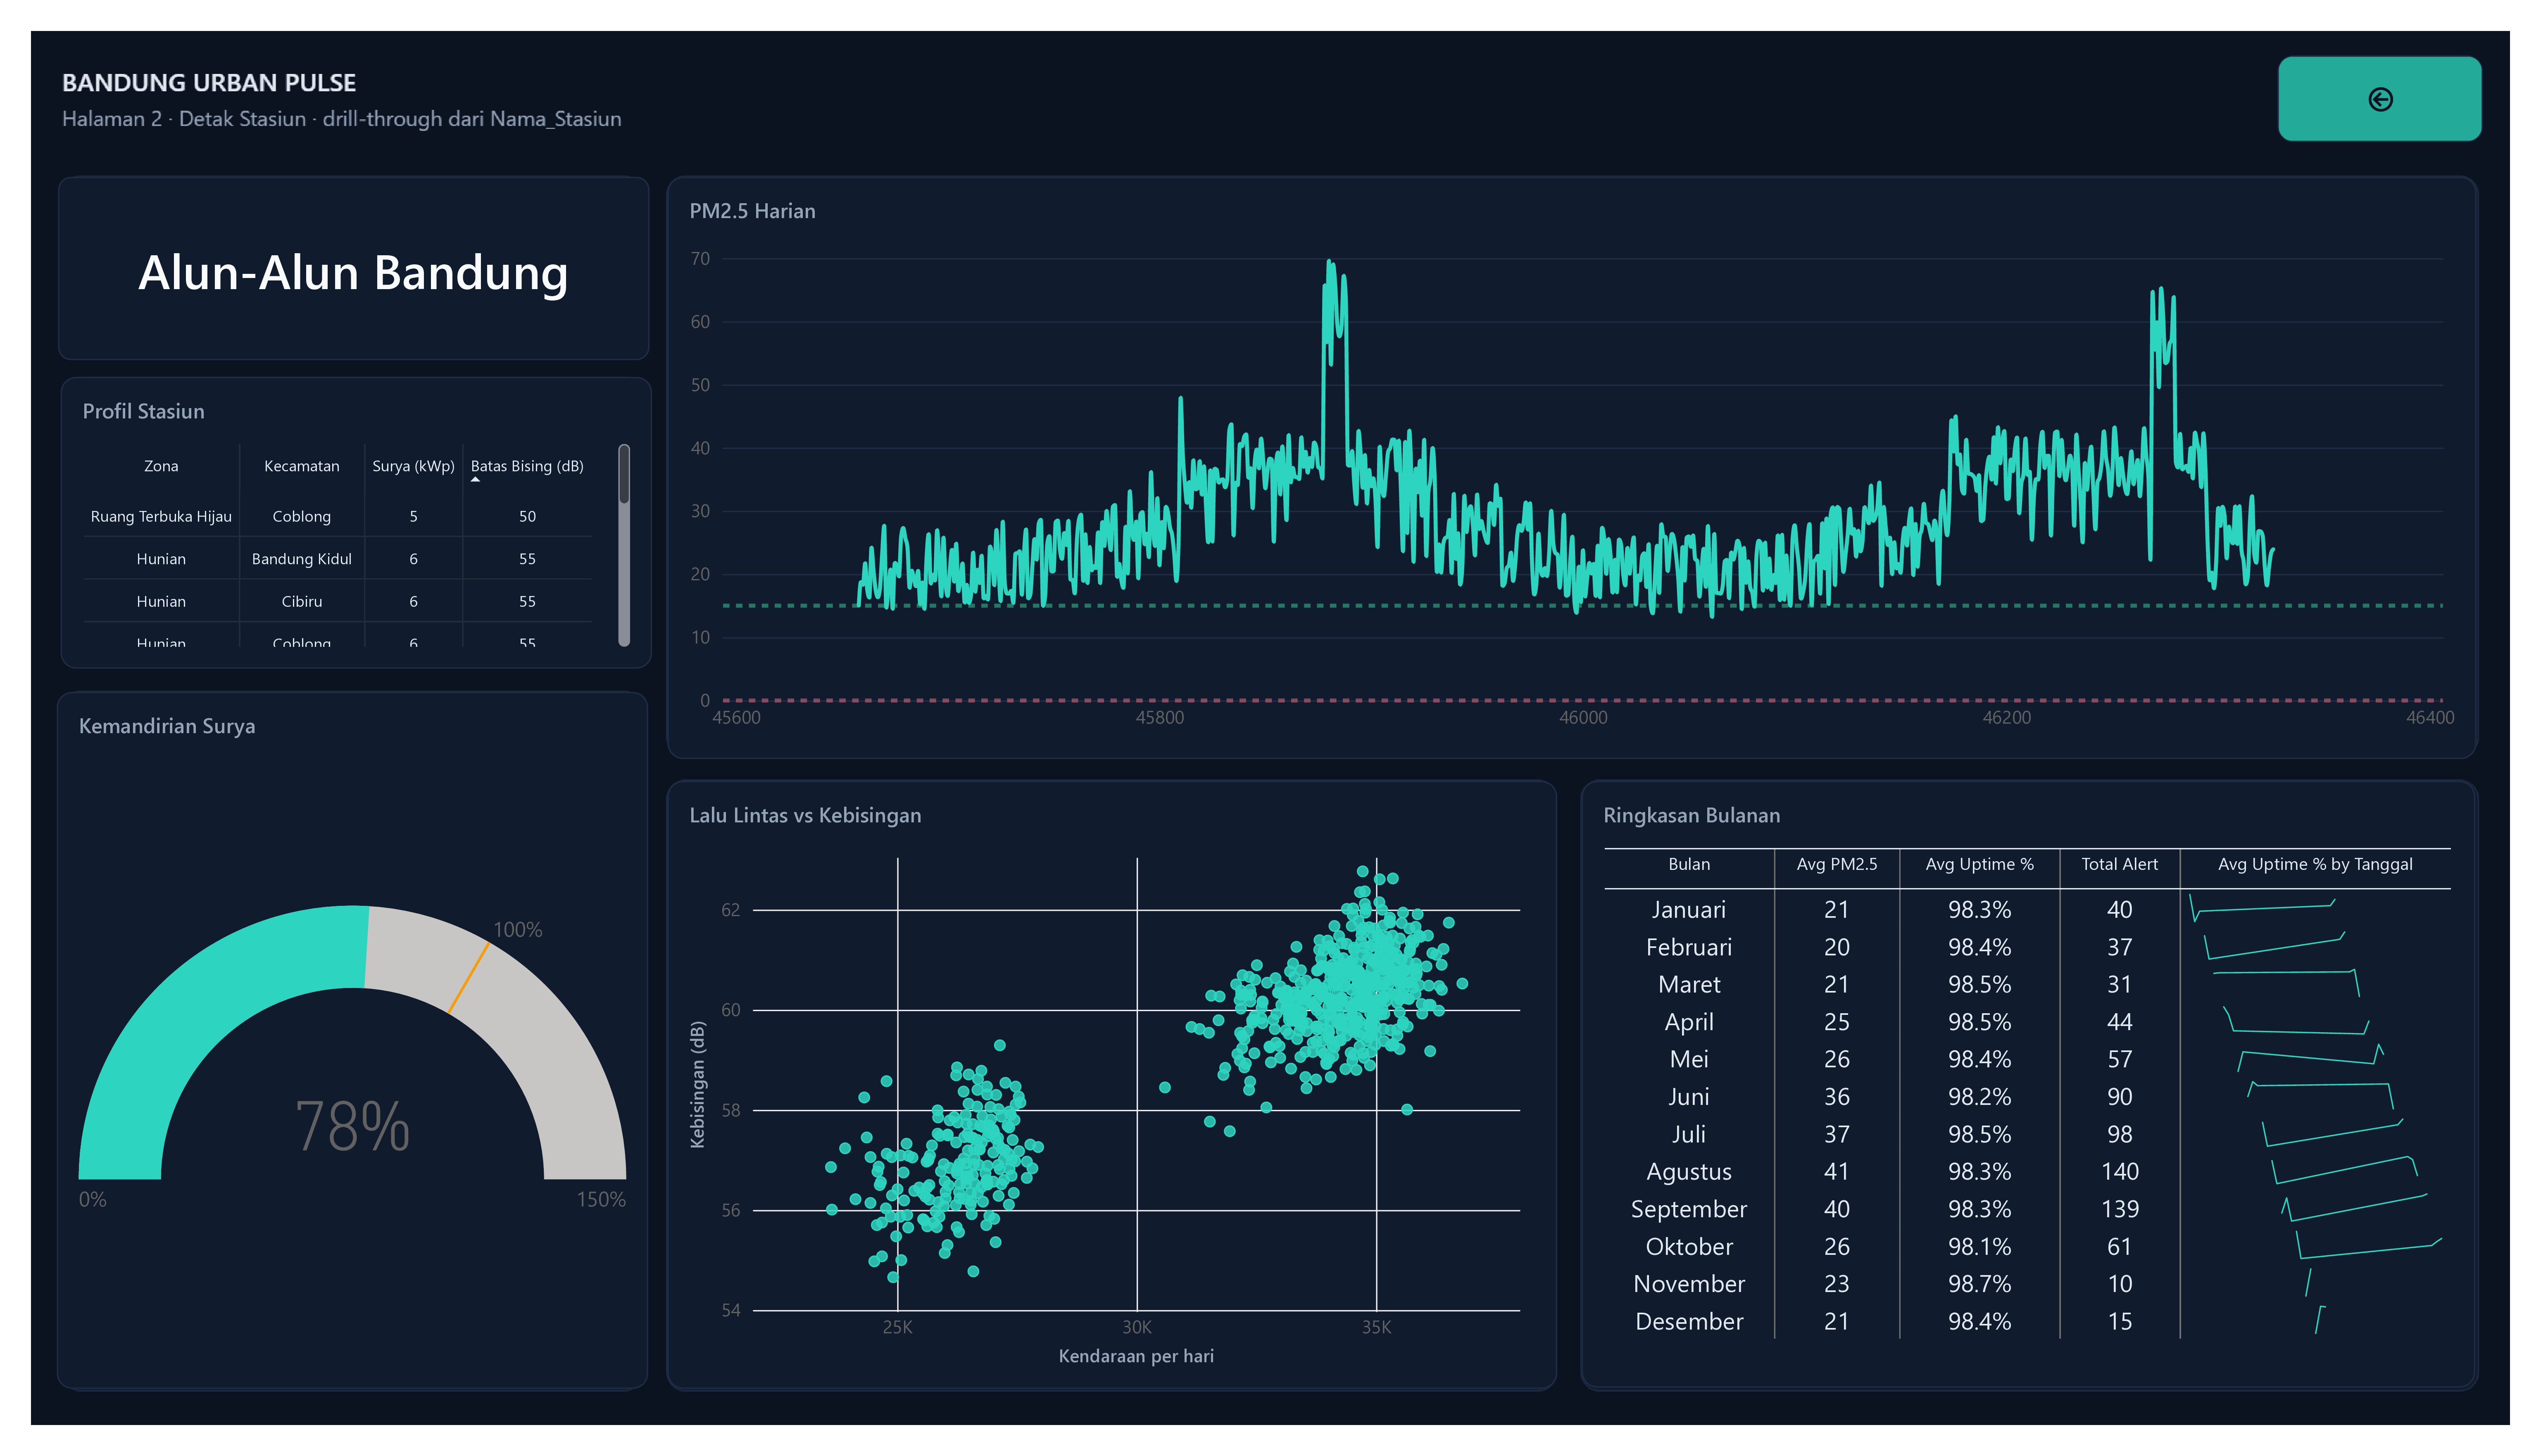

The dashboard page shown, as its layout file describes it:
{"tool":"powerbi","page":{"name":"Page 2 | Detak Stasiun","canvas":[1920,1080],"ordinal":1},"visuals":[{"type":"tableEx","title":"Profil Stasiun","fields":{"Values":["Dim_Stasiun.Tipe_Zona","Dim_Stasiun.Kecamatan","Dim_Stasiun.Kapasitas_Solar_kWp","Dim_Stasiun.Batas_Kebisingan_dB"]},"box":[22.5,267.5,458,226],"z":0},{"type":"lineChart","title":"PM2.5 Harian","fields":{"Category":["Dim_Tanggal.Tanggal"],"Y":["_Measure.Avg PM2.5"]},"box":[492.7,112.7,1401.3,451.3],"z":1000},{"type":"gauge","title":"Kemandirian Surya","fields":{"Y":["_Measure.Kemandirian Energi %"]},"box":[20,511.7,457.5,540],"z":2000},{"type":"scatterChart","title":"Lalu Lintas vs Kebisingan","fields":{"Category":["Fact_Harian.Tanggal"],"X":["Avg(Fact_Harian.Kendaraan_Lewat)"],"Y":["Avg(Fact_Harian.Kebisingan_dB)"]},"box":[493.3,581.3,688.7,470.7],"z":3000},{"type":"tableEx","title":"Ringkasan Bulanan","fields":{"Values":["Dim_Tanggal.Bulan","_Measure.Avg PM2.5","_Measure.Avg Uptime %","_Measure.Total Alert","SparklineData(_Measure.Avg Uptime %_[Dim_Tanggal.Tanggal])"]},"box":[1201.1,581.1,692.2,470],"z":4000},{"type":"cardVisual","title":"Nama Stasiun","fields":{"Data":["Min(Dim_Stasiun.Nama_Stasiun)"]},"box":[20.9,112.6,457.8,142.2],"z":5000},{"type":"actionButton","box":[1740,18.6,159.3,67.9],"z":6000}]}

Visuals, with their boxes on the page's 1920x1080 design canvas (x1, y1, x2, y2). These are canvas units, not pixel positions in the 2541x1456 screenshot, which may show the page scaled, cropped or inside an application window:
"Profil Stasiun" tableEx: box(22, 268, 480, 494)
"PM2.5 Harian" lineChart: box(493, 113, 1894, 564)
"Kemandirian Surya" gauge: box(20, 512, 478, 1052)
"Lalu Lintas vs Kebisingan" scatterChart: box(493, 581, 1182, 1052)
"Ringkasan Bulanan" tableEx: box(1201, 581, 1893, 1051)
"Nama Stasiun" cardVisual: box(21, 113, 479, 255)
actionButton: box(1740, 19, 1899, 86)
